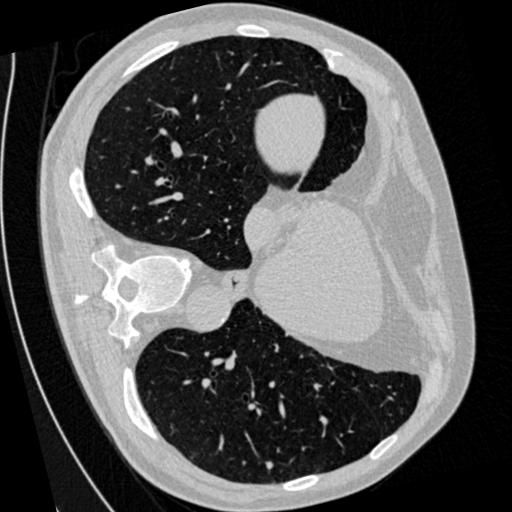nodule: (263, 458, 279, 474)
